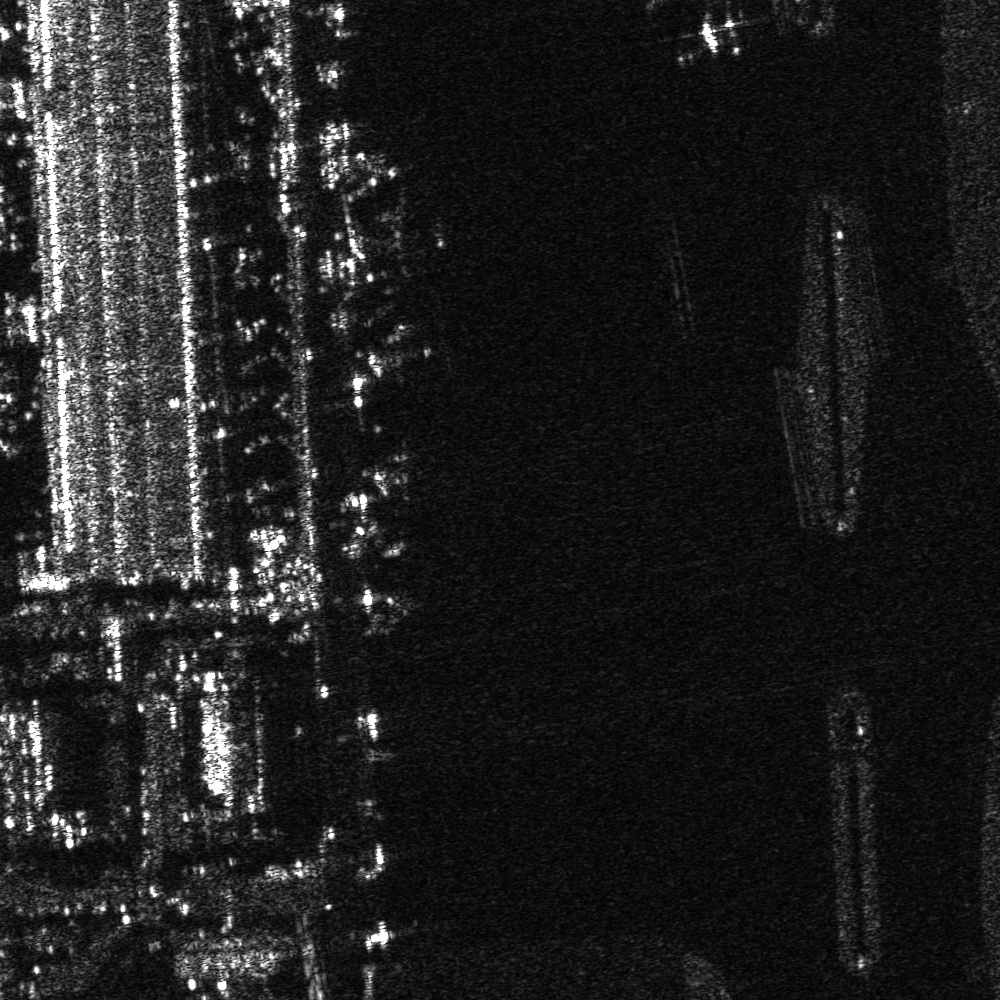A220: (342, 181, 453, 287)
other: (359, 311, 445, 395)
